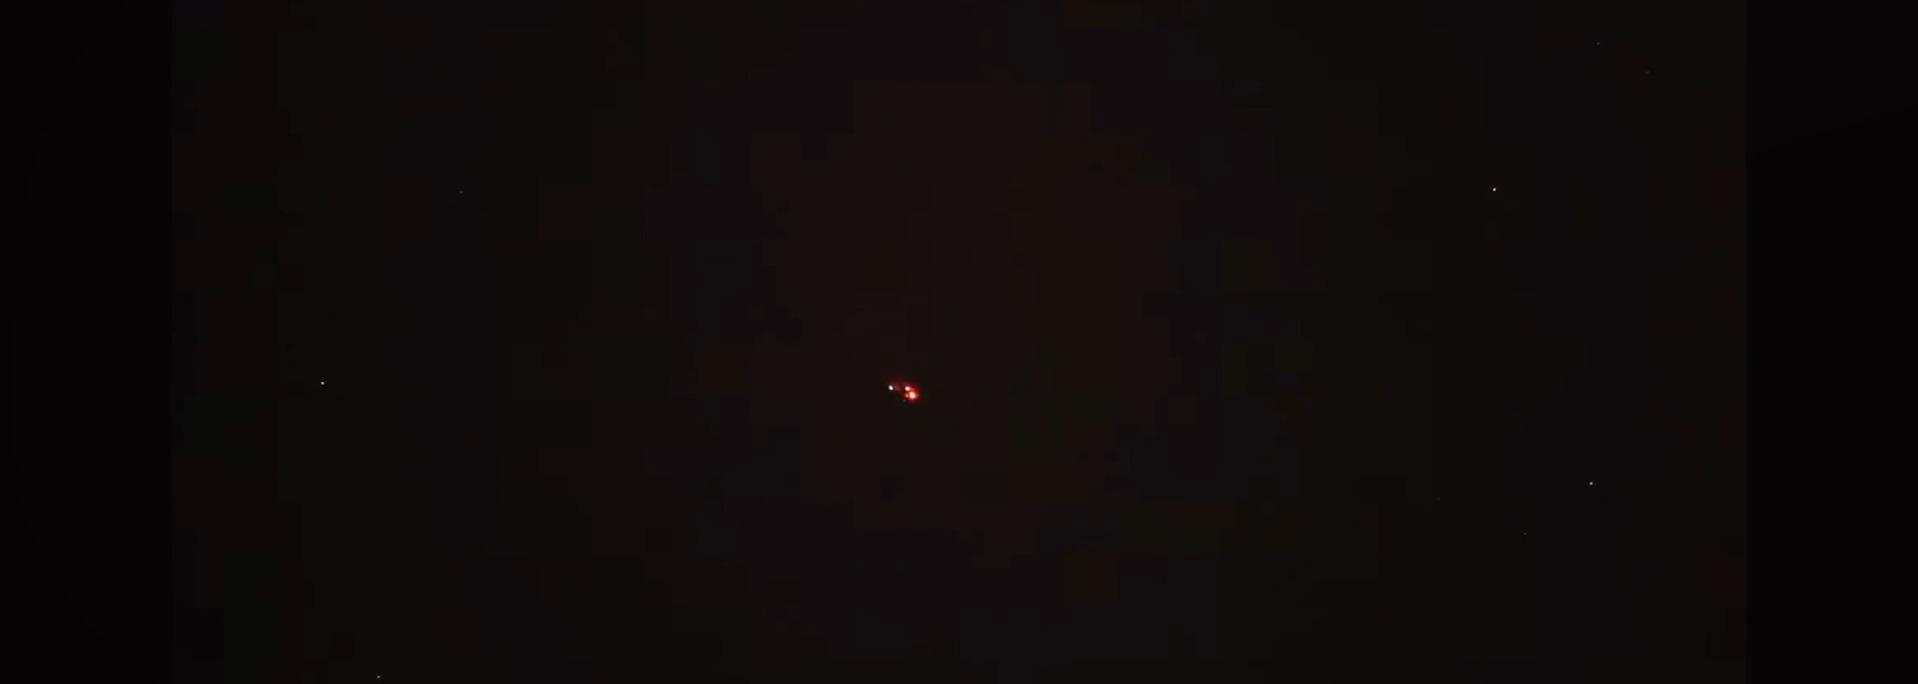Plane: (846, 367, 966, 417)
